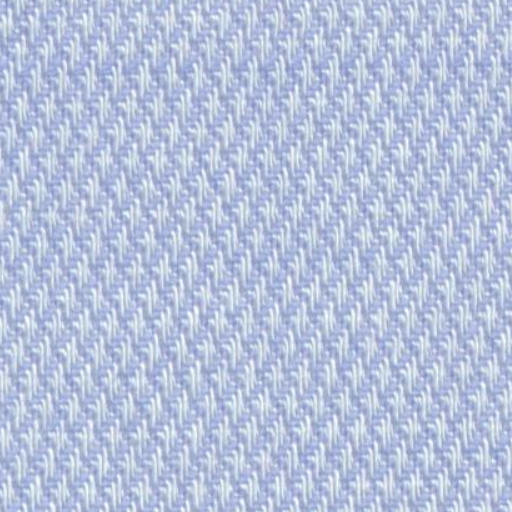TuoSha: (20, 32, 492, 108)
